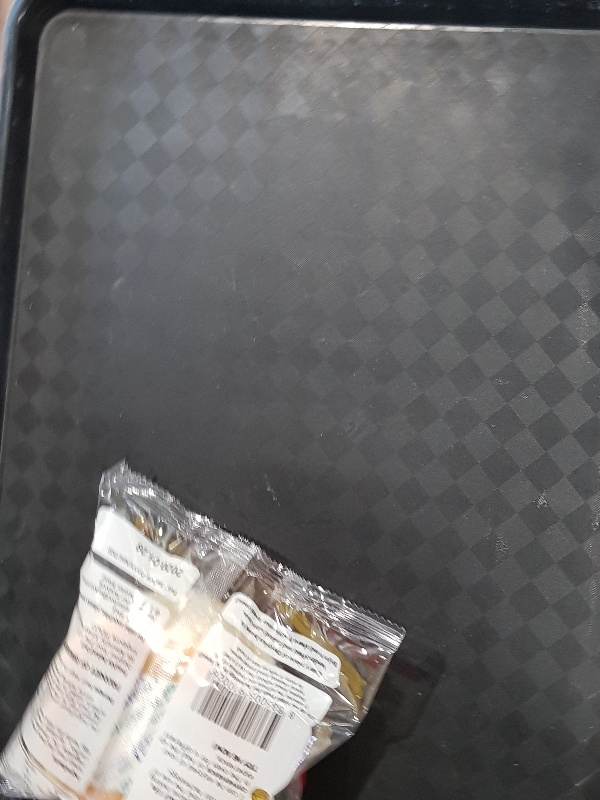Dayplus Red Bean: (2, 459, 407, 800)
